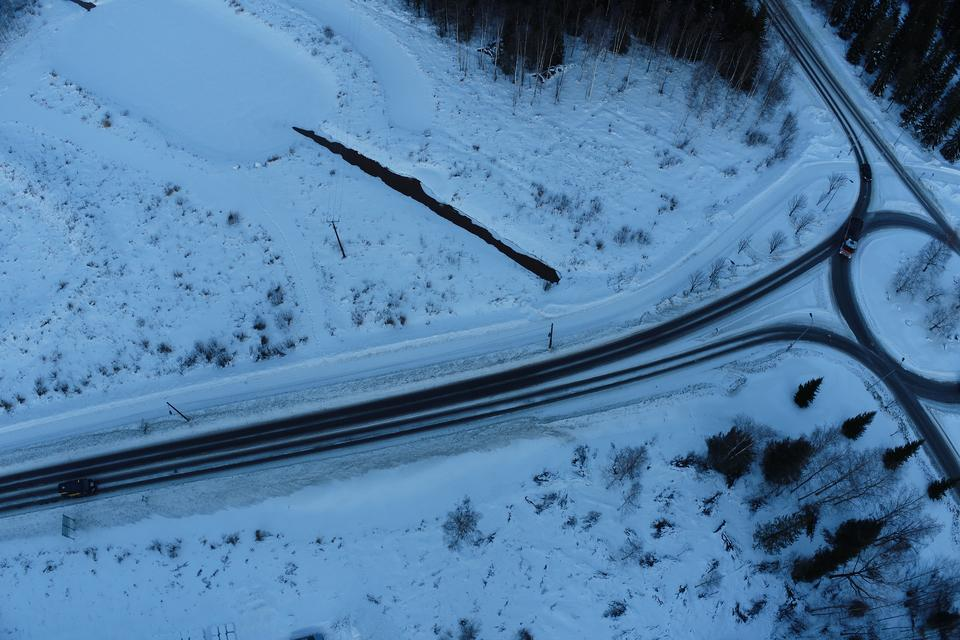roundabout: (806, 188, 960, 455)
